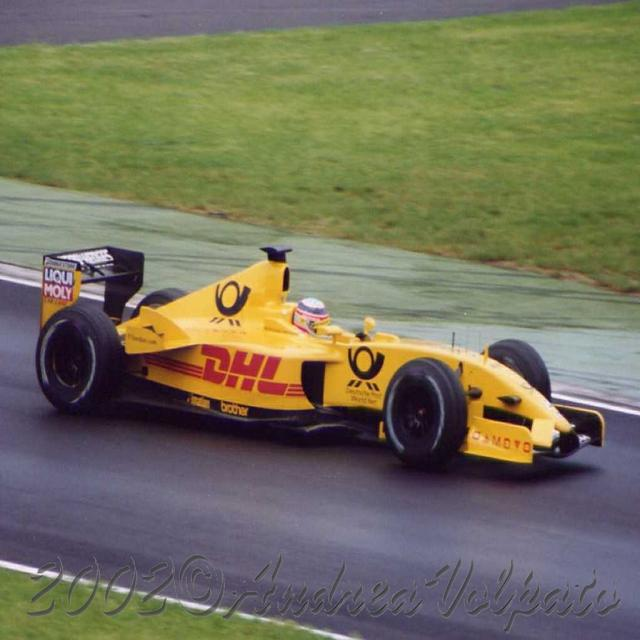dhl: (160, 344, 308, 406)
